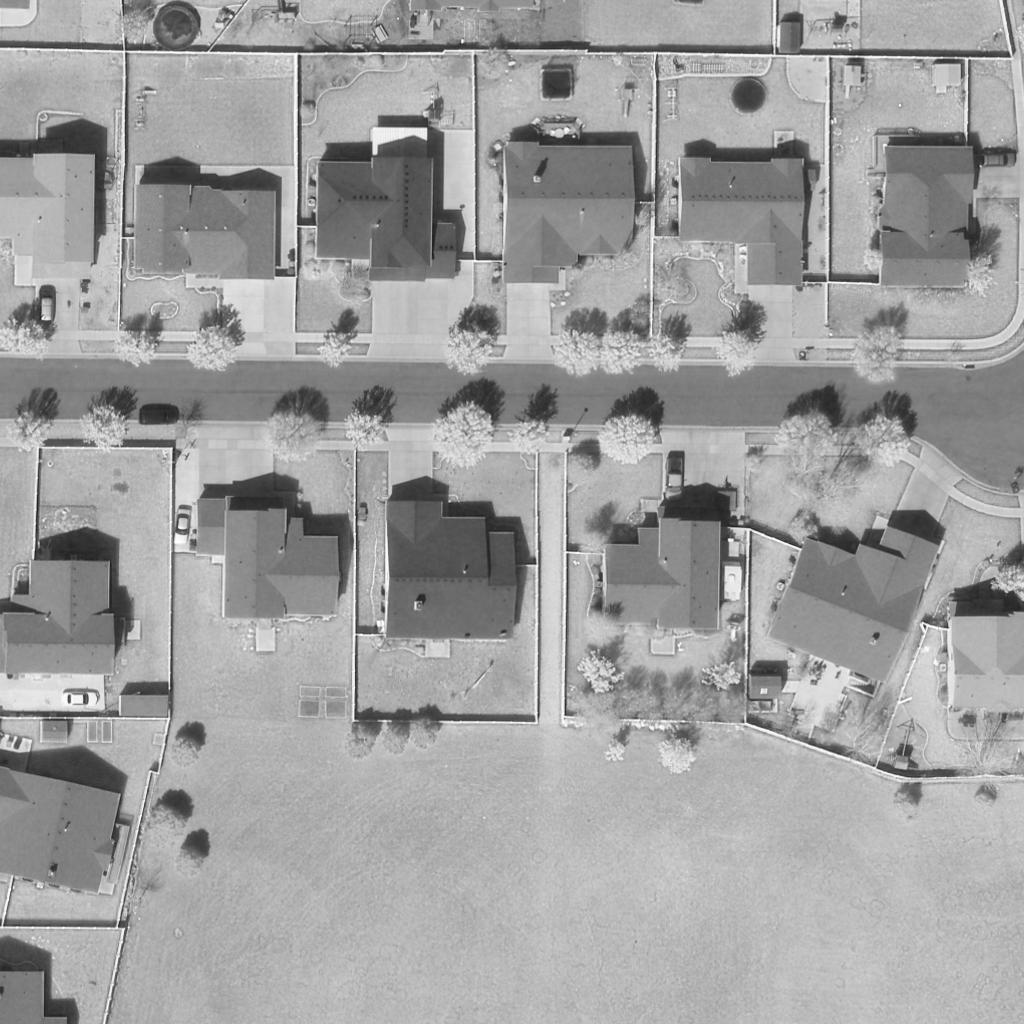vehicle: (664, 456, 686, 504), (38, 289, 60, 327), (139, 408, 181, 426), (174, 506, 190, 548), (63, 691, 101, 707)
